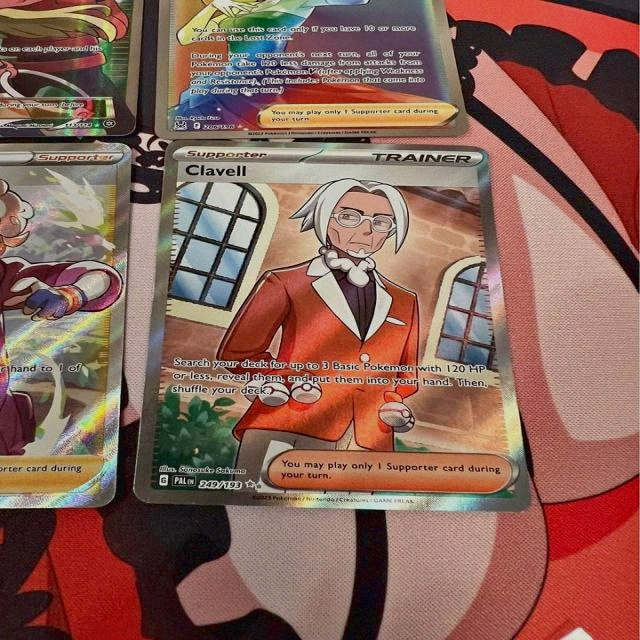card: (132, 139, 536, 512), (0, 142, 134, 510), (154, 0, 473, 140)
